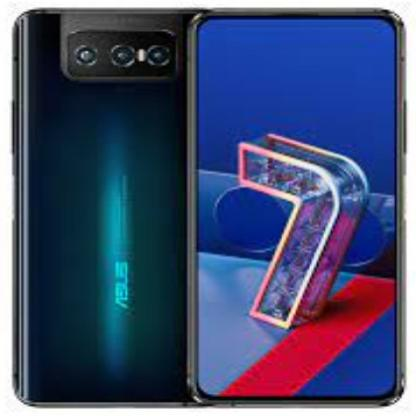SMARTPHONE: (10, 7, 412, 411)
